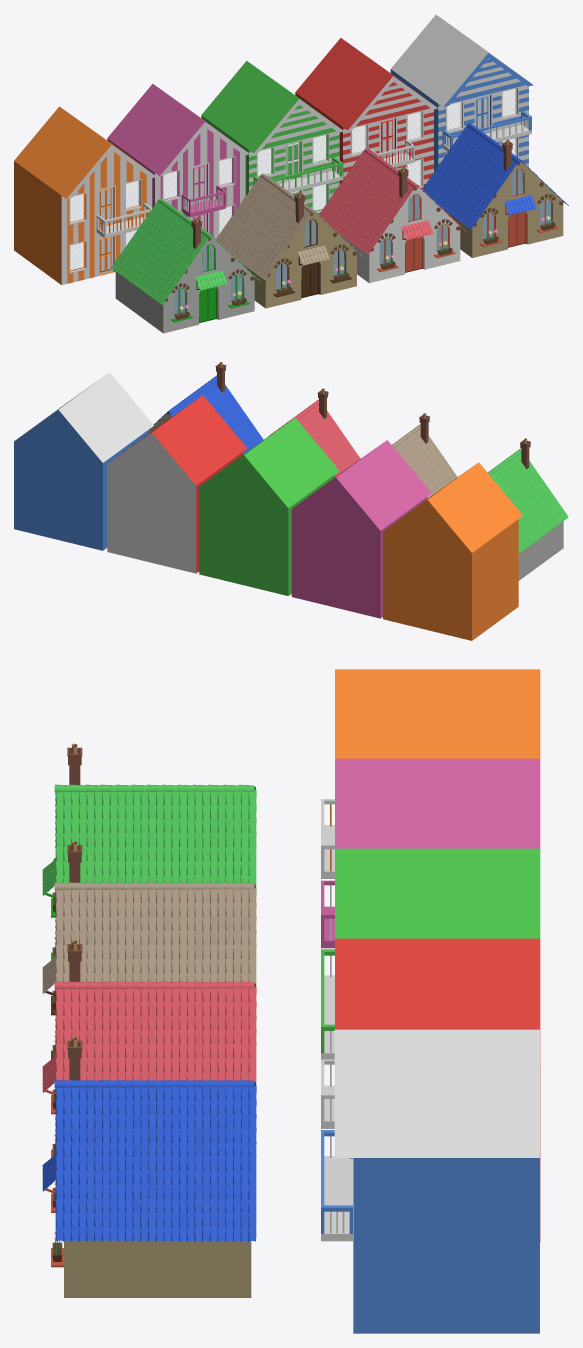
Rendered from Houses.fbx.
3 views of the same model, one above another, from view 1: azimuth 30°, elevation 25°; view 2: azimuth 150°, elevation 25°; view 3: azimuth 270°, elevation 25° (orthographic). The views are drawn at different scales.
Parts seen in each view (by area): view 1: BeachHouse4, House4, BeachHouse3, BeachHouse5, BeachHouse1, House1, House2, House3, BeachHouse2; view 2: BeachHouse4, BeachHouse1, BeachHouse2, BeachHouse3, BeachHouse5, House4, House1, House3, House2; view 3: BeachHouse1, House1, House3, House2, House4, BeachHouse3, BeachHouse2, BeachHouse5, BeachHouse4.
Part boxes in pixels (x1,y1,x2,y2): BeachHouse4: [14, 106, 156, 284]; House4: [111, 198, 259, 333]; BeachHouse3: [201, 61, 343, 214]; BeachHouse5: [107, 84, 249, 238]; BeachHouse1: [390, 14, 533, 171]; House1: [422, 123, 568, 257]; House2: [319, 148, 465, 283]; House3: [216, 173, 362, 308]; BeachHouse2: [295, 38, 437, 188]; BeachHouse4: [383, 462, 522, 640]; BeachHouse1: [14, 372, 153, 550]; BeachHouse2: [107, 395, 247, 573]; BeachHouse3: [199, 417, 339, 595]; BeachHouse5: [291, 440, 431, 618]; House4: [487, 438, 568, 580]; House1: [149, 362, 263, 454]; House3: [392, 413, 457, 498]; House2: [268, 388, 360, 476]; BeachHouse1: [321, 1029, 539, 1333]; House1: [42, 1036, 256, 1297]; House3: [42, 841, 256, 1059]; House2: [42, 940, 256, 1157]; House4: [42, 743, 256, 960]; BeachHouse3: [321, 848, 540, 1059]; BeachHouse2: [321, 938, 540, 1242]; BeachHouse5: [321, 758, 540, 948]; BeachHouse4: [321, 669, 540, 878].
Size of the model in its own units: 2745 by 752 by 1291.
